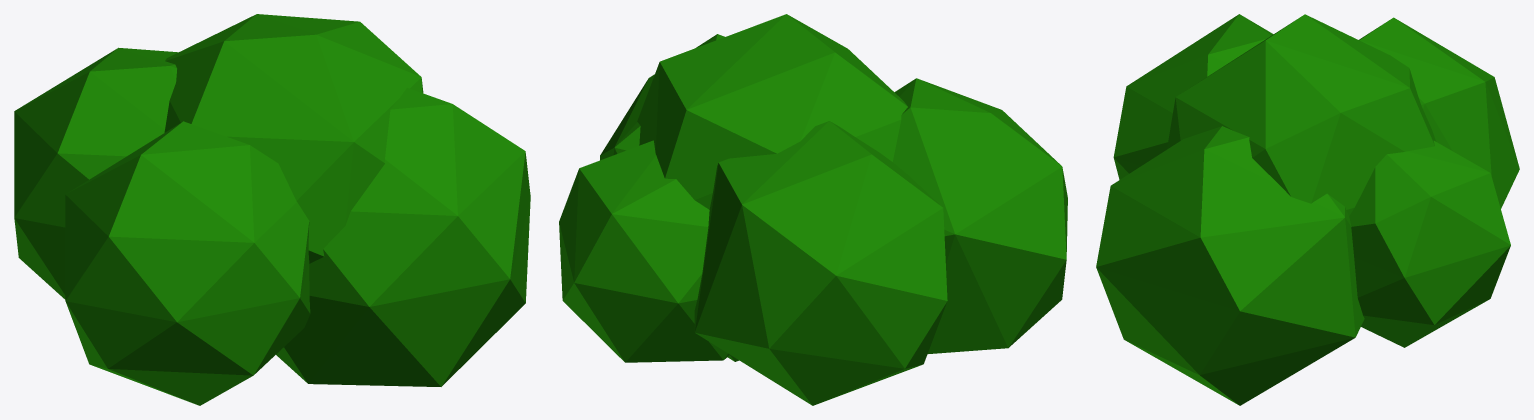
Rendered from bush_1.fbx.
The picture shows the model from 3 angles, left to right: view 1: azimuth 30°, elevation 25°; view 2: azimuth 150°, elevation 25°; view 3: azimuth 270°, elevation 25°; orthographic projection. The views are drawn at different scales.
Visible parts, largest first — view 1: bush_1; view 2: bush_1; view 3: bush_1.
Boxes of the visible parts, x1,y1,x2,y2 form: bush_1: (14,14,530,405); bush_1: (559,14,1067,405); bush_1: (1096,14,1519,405).
Bounding box in the file's own units: 173 × 125 × 150.
